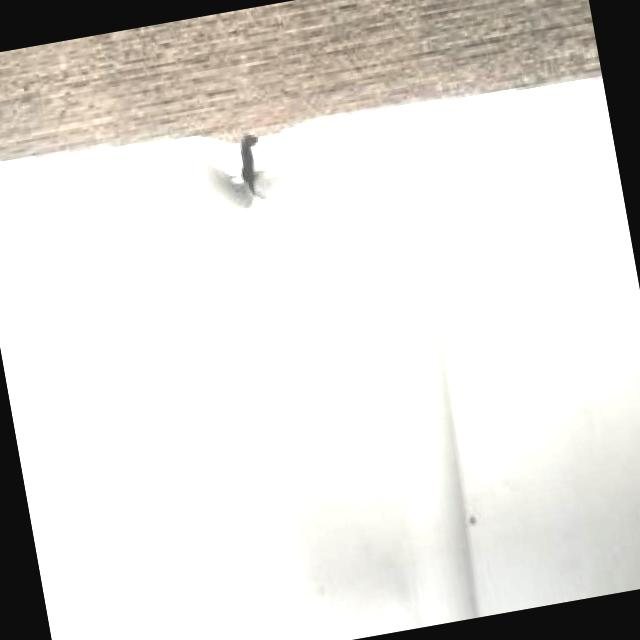crack: (220, 128, 280, 222)
